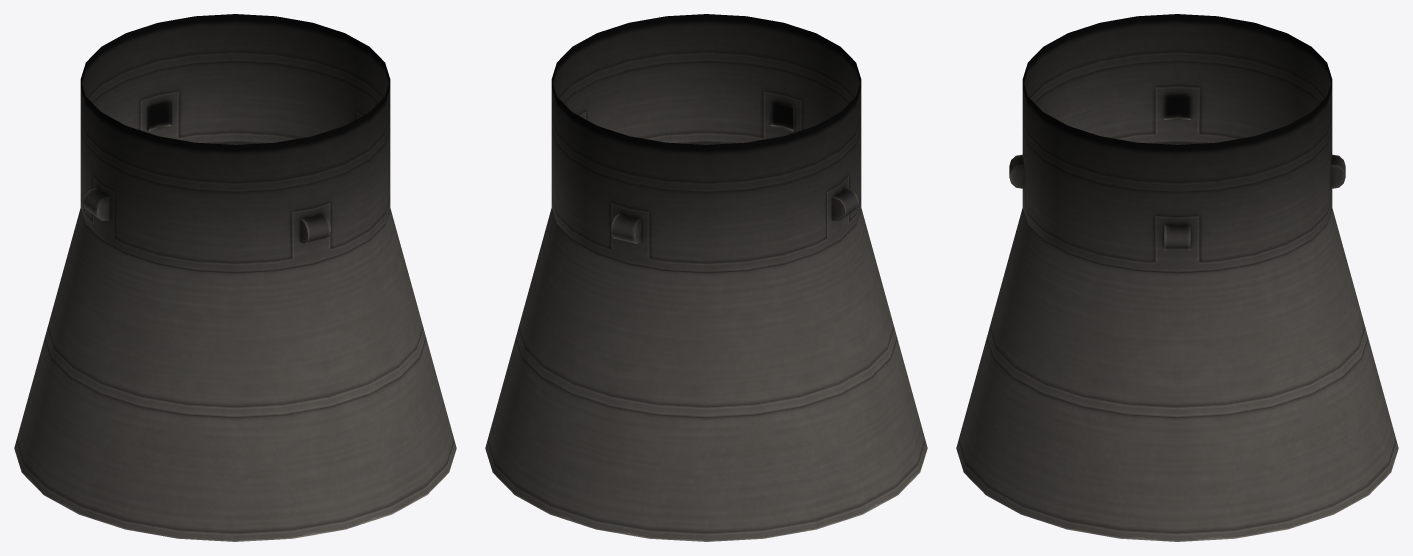
The model's file is booster nozzle.obj.
3 renders of one model, left to right at view 1: azimuth 30°, elevation 25°; view 2: azimuth 150°, elevation 25°; view 3: azimuth 270°, elevation 25°, orthographic.
Parts seen in each view (by area): view 1: nozzle; view 2: nozzle; view 3: nozzle.
Part boxes in pixels (x1,y1,x2,y2): nozzle: [14, 14, 456, 541]; nozzle: [485, 14, 927, 541]; nozzle: [956, 14, 1398, 541].
Bounding box in the file's own units: 1.25 × 1.15 × 1.25.
Materials: 1 (1 with a texture image).
